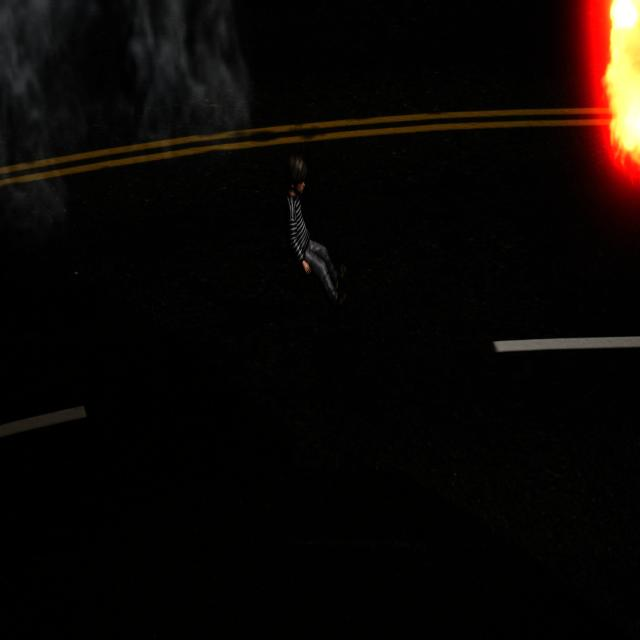Human: (275, 146, 353, 325)
